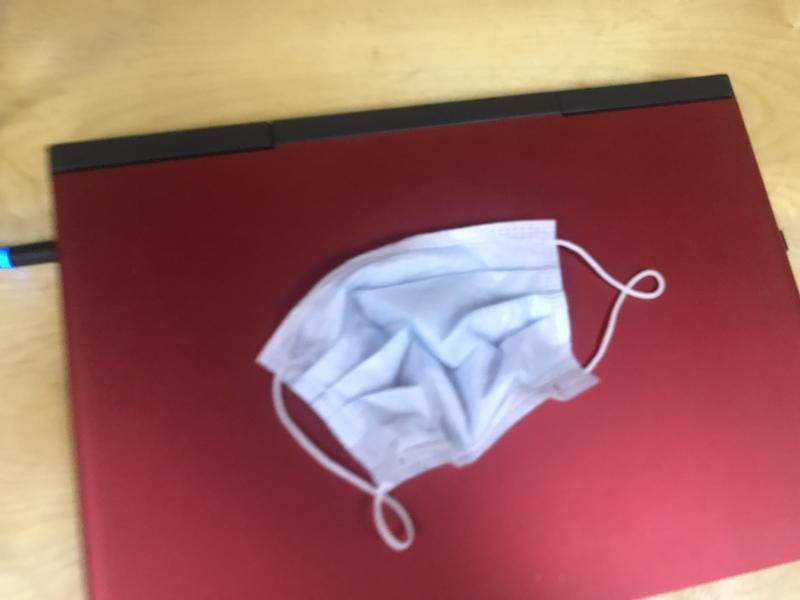medical_mask: (255, 219, 665, 554)
